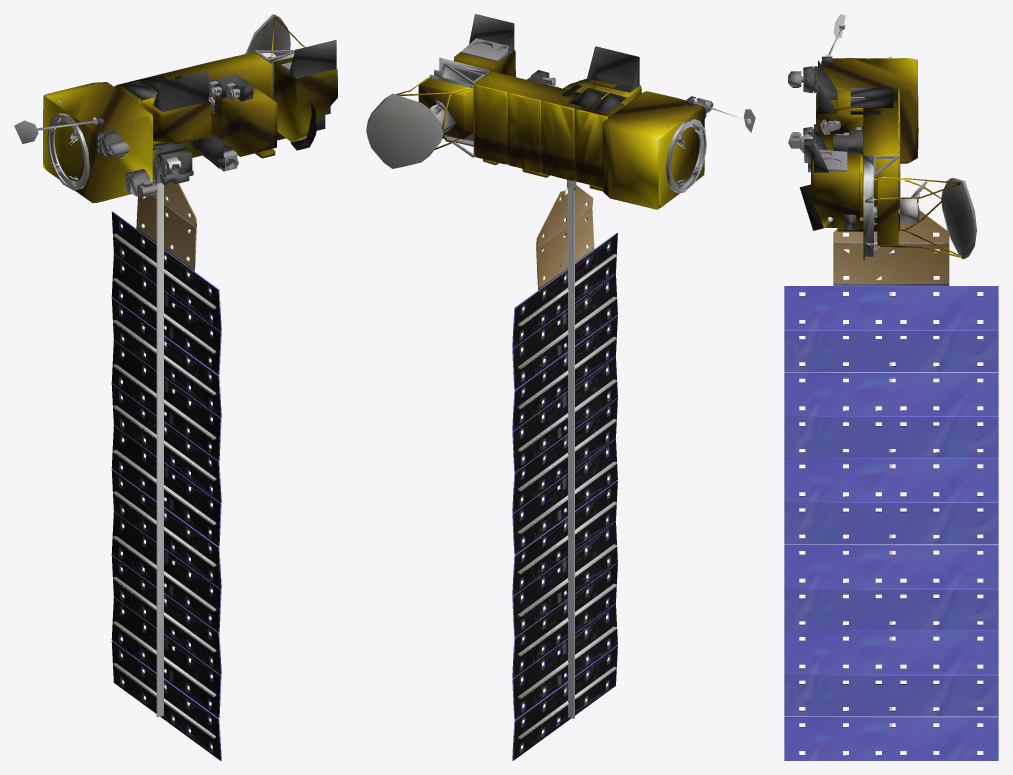
Rendered from aqua.glb.
3 views of the same model, side by side, from view 1: azimuth 30°, elevation 25°; view 2: azimuth 150°, elevation 25°; view 3: azimuth 270°, elevation 25° (orthographic). The views are drawn at different scales.
Visible parts, largest first — view 1: tex_01, gold_2, foil_silver, shiny_panel; view 2: tex_01, gold_2, foil_silver, shiny_panel; view 3: shiny_panel, gold_2, tex_01, foil_silver, black_krinkle.
Boxes of the visible parts, bbox=[...] form: tex_01: bbox=[14, 14, 316, 760]; gold_2: bbox=[43, 17, 337, 203]; foil_silver: bbox=[95, 39, 336, 196]; shiny_panel: bbox=[112, 211, 221, 760]; tex_01: bbox=[366, 38, 755, 760]; gold_2: bbox=[396, 50, 704, 209]; foil_silver: bbox=[429, 14, 709, 140]; shiny_panel: bbox=[512, 233, 617, 760]; shiny_panel: bbox=[784, 286, 998, 760]; gold_2: bbox=[811, 58, 961, 257]; tex_01: bbox=[788, 14, 983, 755]; foil_silver: bbox=[792, 56, 919, 260]; black_krinkle: bbox=[799, 111, 880, 230].
Size of the model in its own units: 9.35 by 17.78 by 5.08.
5 materials, 4 textured.
